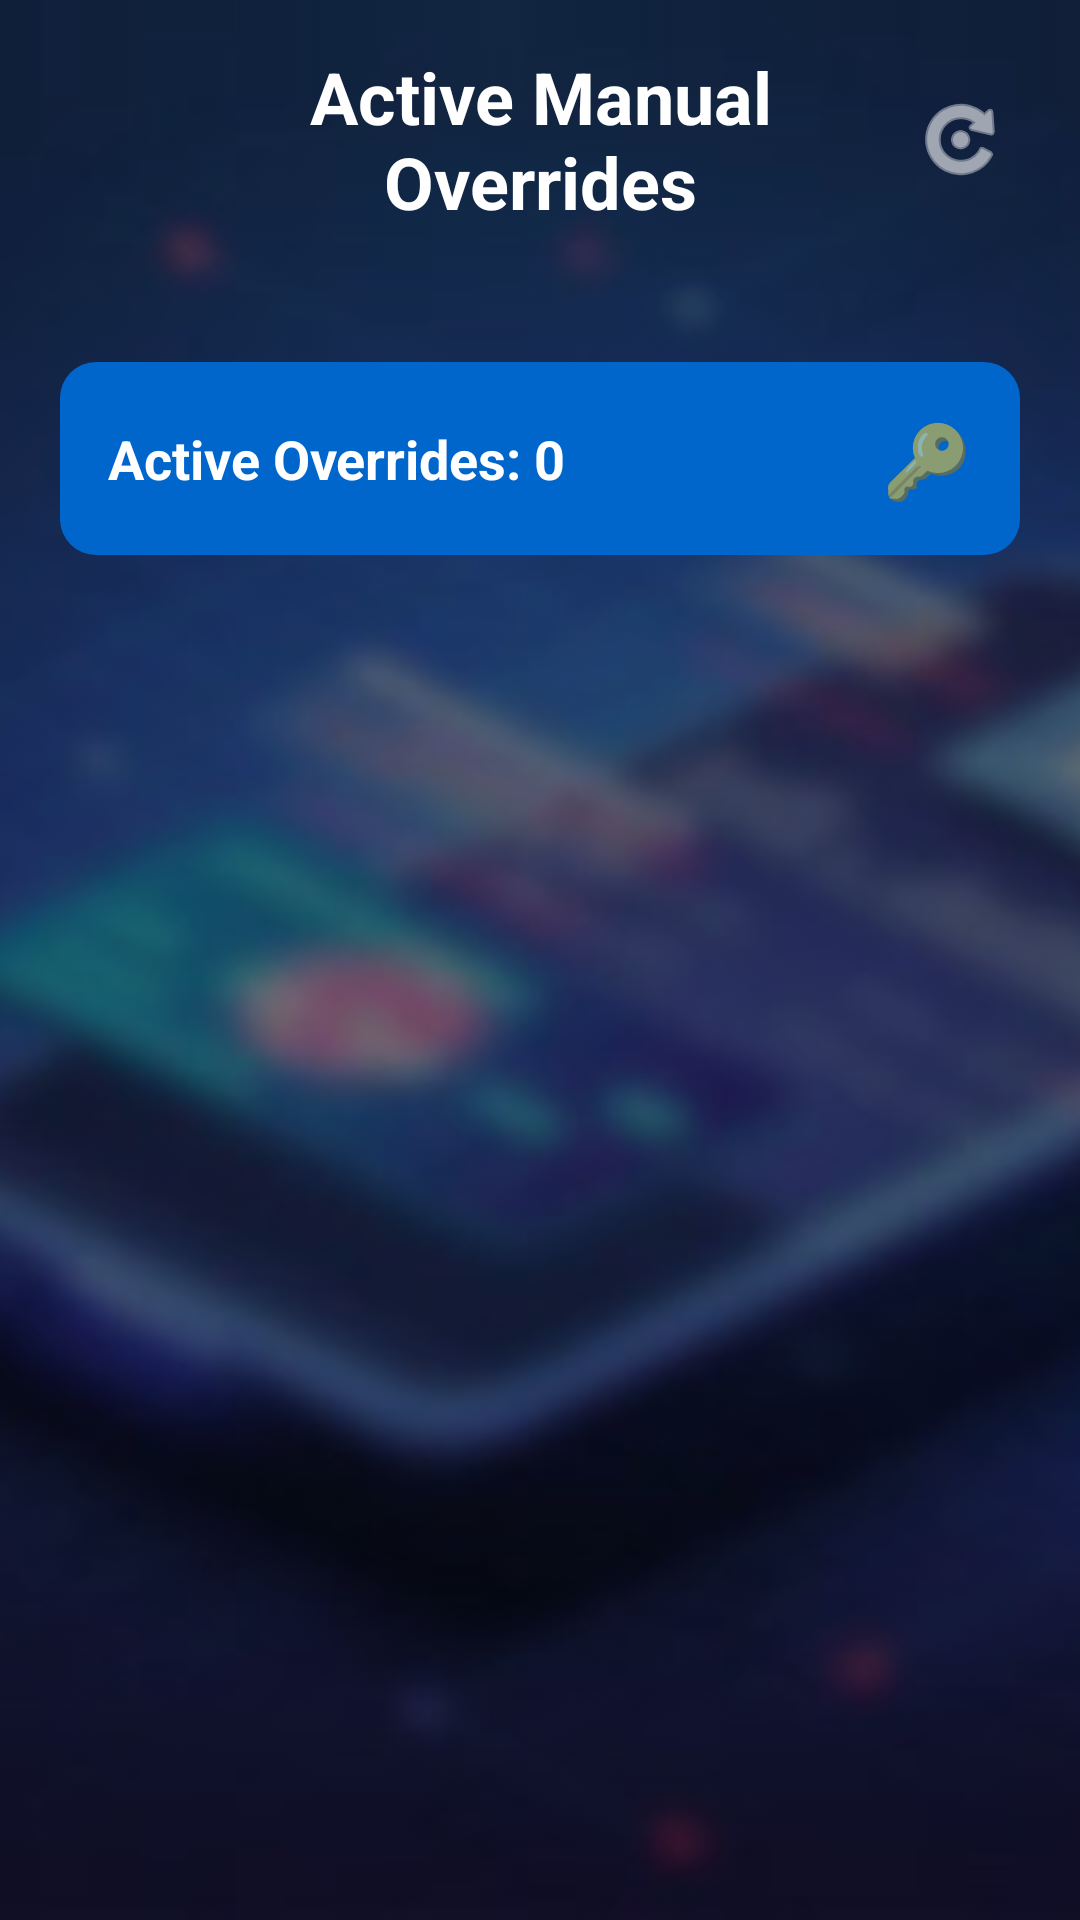

Named icons in this screenshot (1080 x 1920) and their bounding boxes, (x1, y1, x2, y2):
Refresh: (925, 104, 995, 175)
